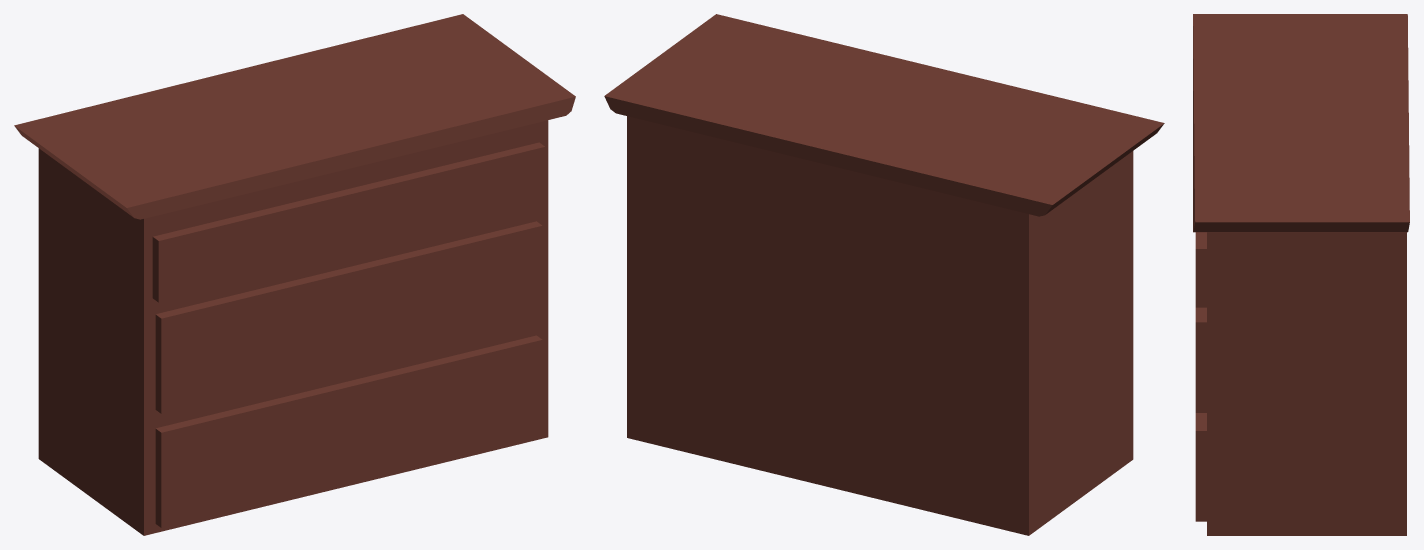
File: littleDresser.fbx
3 views of the same model, side by side, from view 1: azimuth 30°, elevation 25°; view 2: azimuth 150°, elevation 25°; view 3: azimuth 270°, elevation 25° (orthographic). The views are drawn at different scales.
Visible parts, largest first — view 1: Cube.002, Body, Top; view 2: Body, Top; view 3: Body, Top, Cube.002.
Boxes of the visible parts, x1,y1,x2,y2 form: Cube.002: (152, 142, 545, 527); Body: (38, 120, 548, 535); Top: (14, 14, 575, 219); Body: (627, 116, 1133, 535); Top: (604, 14, 1164, 216); Body: (1207, 232, 1406, 535); Top: (1193, 14, 1409, 232); Cube.002: (1195, 232, 1206, 521).
Size of the model in its own units: 495 by 357 by 217.
